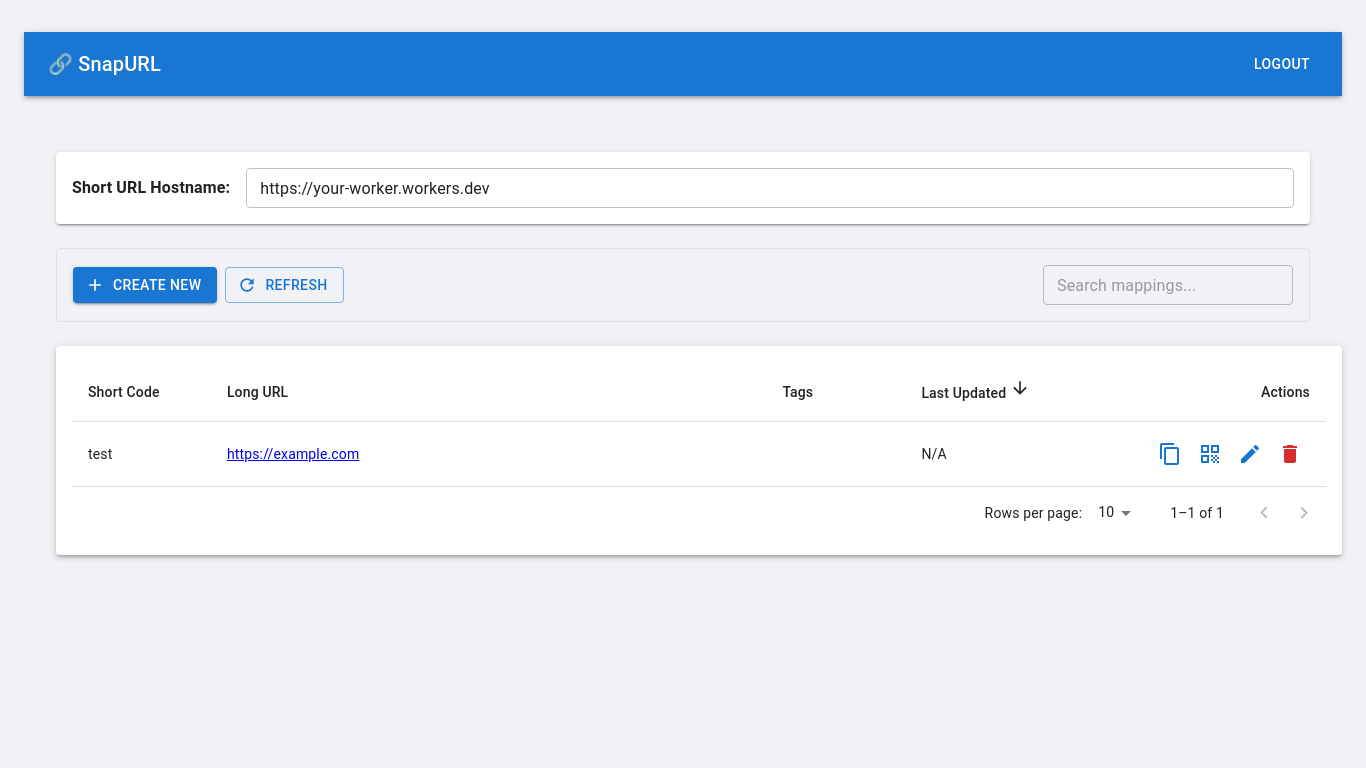
Scenario: App component › should open the edit modal with pre-filled data when edit button is clicked
Expected: the column heading "test" is shown, x1=72 y1=422 x2=211 y2=486
Note: Find and click the edit button
Click the button named "edit".
click(1250, 454)  # box x1=1230 y1=434 x2=1270 y2=474
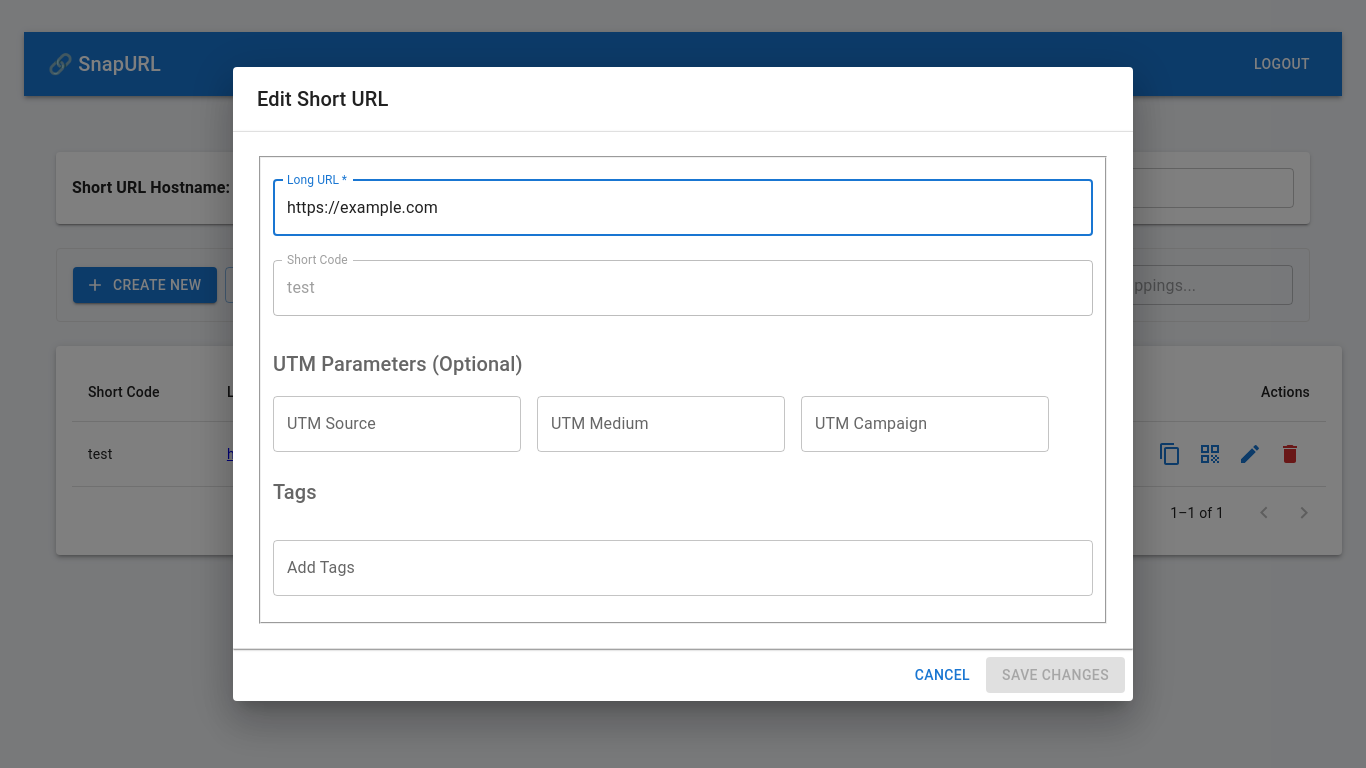
Expected: the dialog is shown, x1=233 y1=67 x2=1133 y2=701
Expected: the field labelled "Long URL *" holds "https://example.com", x1=273 y1=180 x2=1093 y2=236
Expected: the field labelled "Short Code" holds "test", x1=273 y1=260 x2=1093 y2=316
